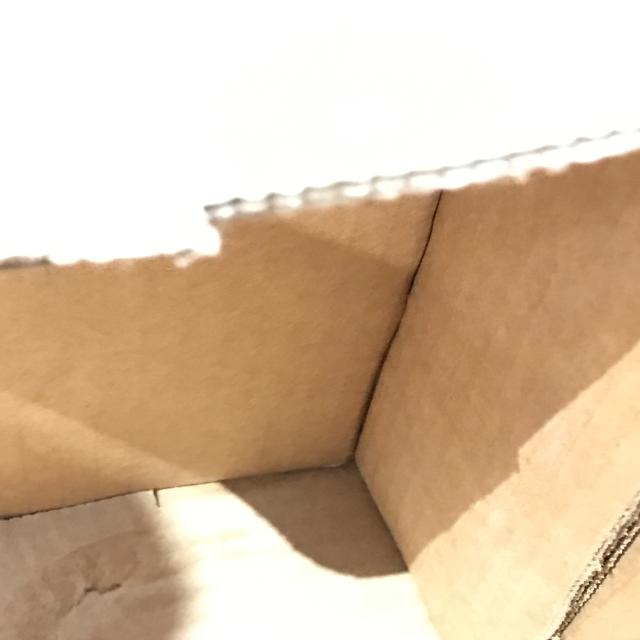cardboard: (1, 134, 639, 638)
